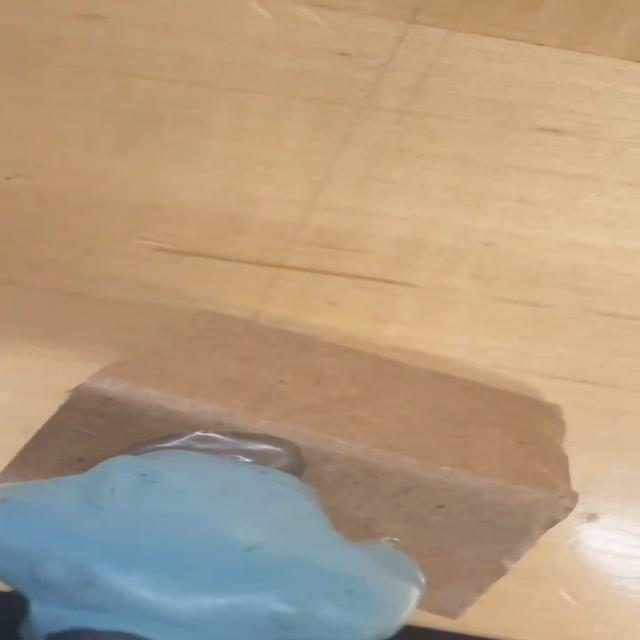Authorized: (0, 430, 431, 640)
